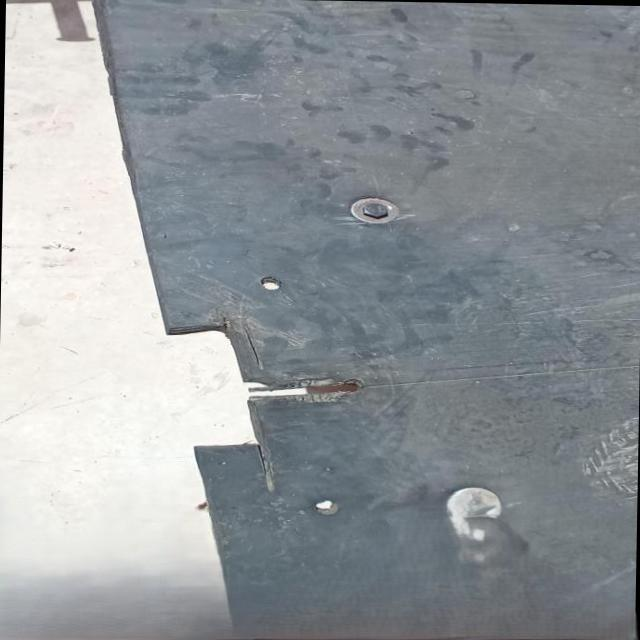Hole: (312, 495, 346, 518), (256, 272, 287, 296)
Tear: (153, 322, 371, 492), (239, 373, 370, 406)
